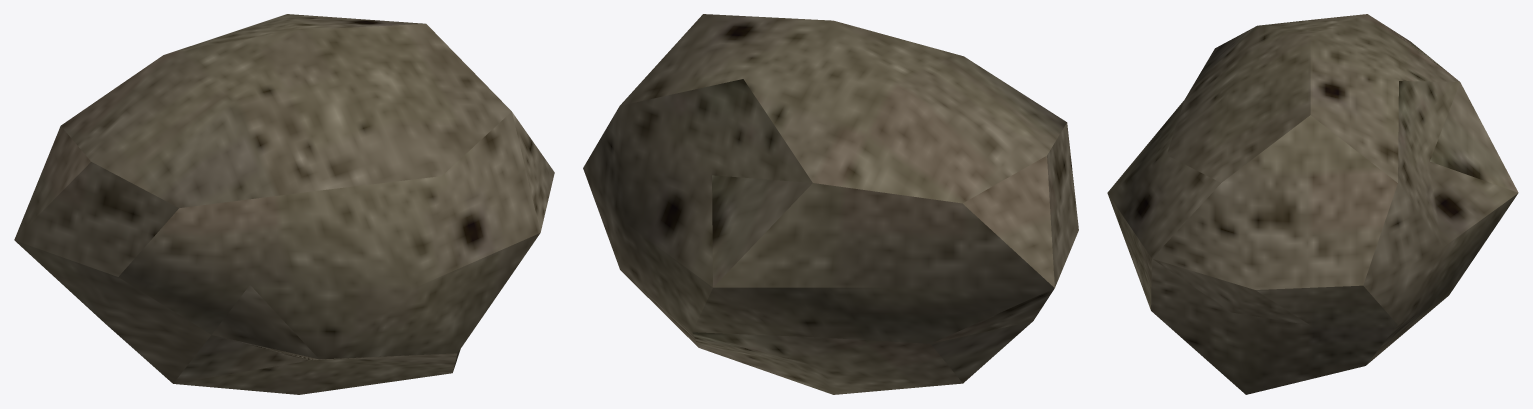
The model's file is held_tool_rock.glb.
3 renders of one model, left to right at view 1: azimuth 30°, elevation 25°; view 2: azimuth 150°, elevation 25°; view 3: azimuth 270°, elevation 25°, orthographic. The views are drawn at different scales.
Visible parts, largest first — view 1: blob; view 2: blob; view 3: blob.
Part boxes in pixels (left/top/right/bottom): blob: left=14, top=14, right=554, bottom=394; blob: left=583, top=14, right=1078, bottom=394; blob: left=1107, top=14, right=1518, bottom=394.
Size of the model in its own units: 0.1544 by 0.1133 by 0.1306.
1 material, 1 textured.
